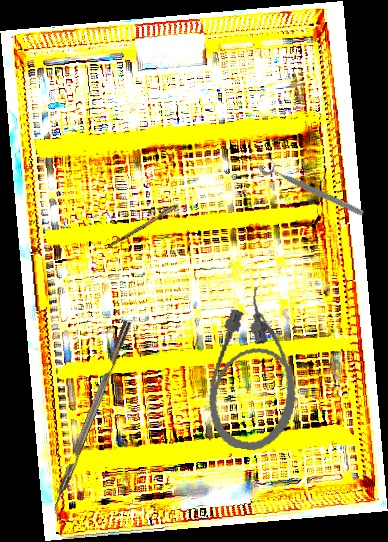Cannula: (200, 283, 313, 456)
Chopper: (44, 320, 142, 524)
Fixation Ring: (256, 153, 369, 220)
Surgical Spoon: (107, 189, 201, 250)
